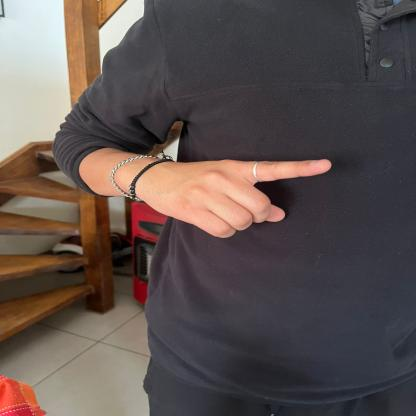S: (139, 151, 339, 243)
